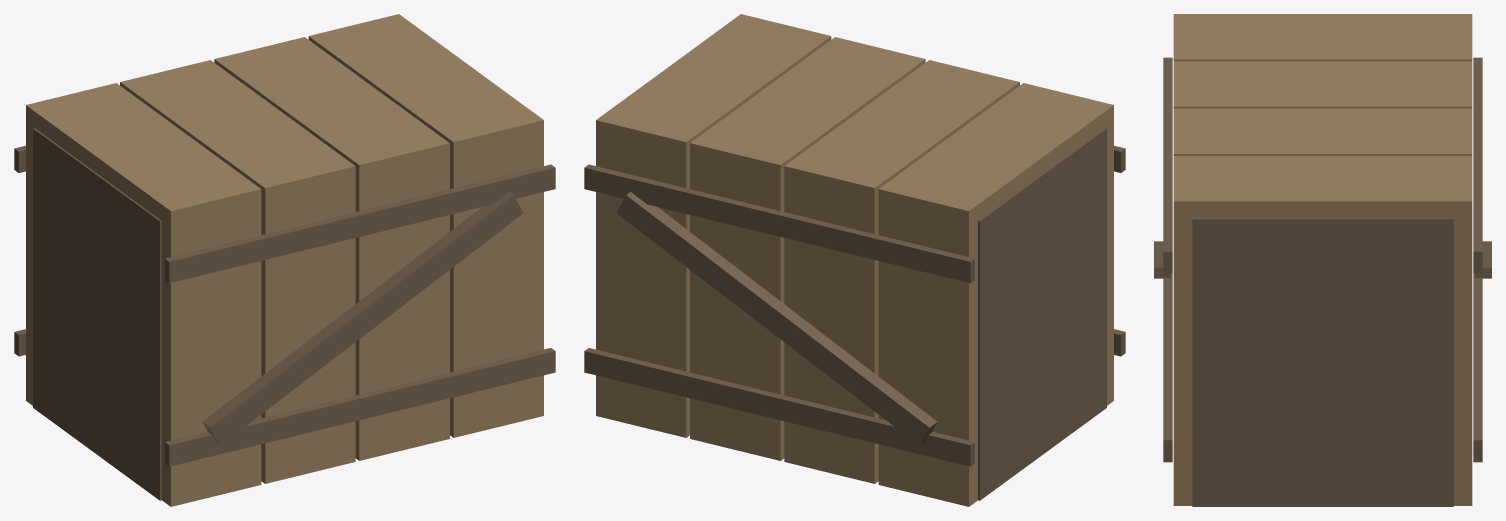
File: prop_crate_b.glb
The picture shows the model from 3 angles, left to right: view 1: azimuth 30°, elevation 25°; view 2: azimuth 150°, elevation 25°; view 3: azimuth 270°, elevation 25°; orthographic projection. The views are drawn at different scales.
Parts seen in each view (by area): view 1: LOD0; view 2: LOD0; view 3: LOD0.
Boxes of the visible parts, box(x1,y1,x2,y2) form: LOD0: box(14, 14, 555, 506); LOD0: box(584, 14, 1125, 506); LOD0: box(1154, 14, 1491, 506).
Bounding box in the file's own units: 1.23 × 0.9 × 0.905.
